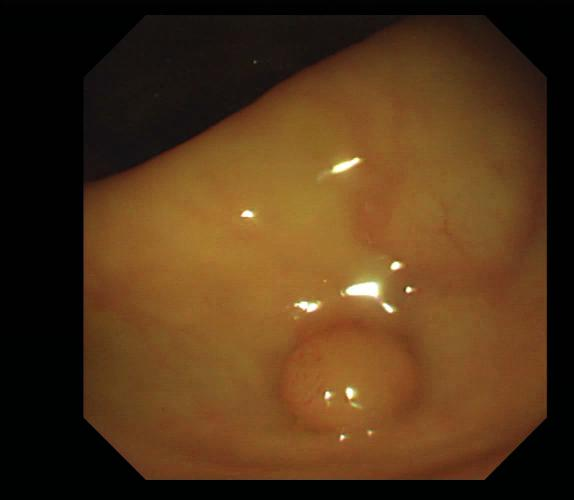polyp: (277, 319, 425, 440)
